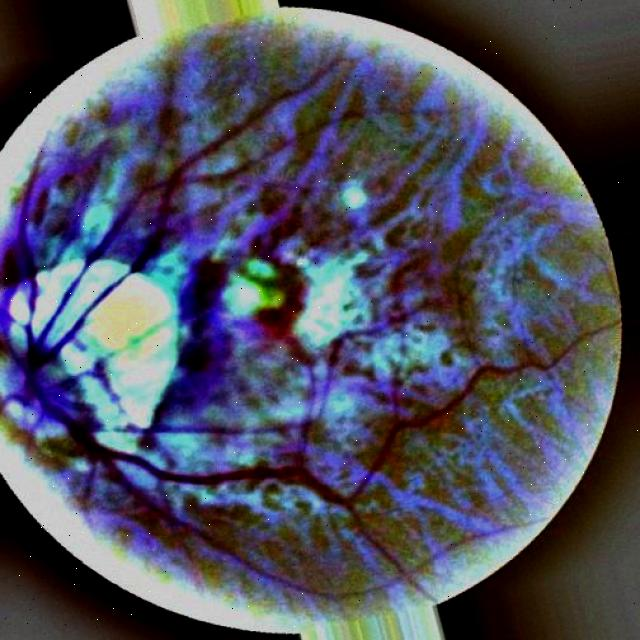Optic Disk: (0, 259, 180, 457)
